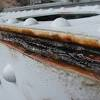rust: (27, 32, 92, 71), (61, 41, 100, 77), (1, 26, 36, 54)
